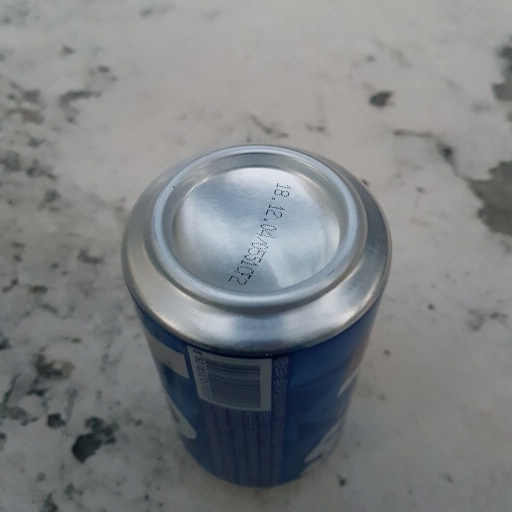Metal_0: (115, 140, 396, 485)
